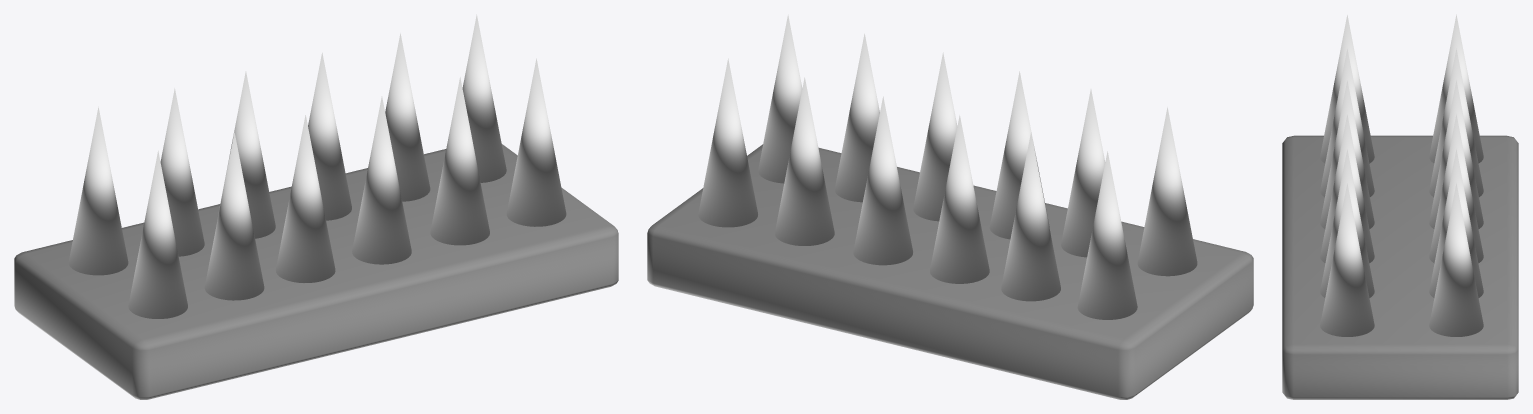
File: Spike_hole.fbx
3 renders of one model, left to right at view 1: azimuth 30°, elevation 25°; view 2: azimuth 150°, elevation 25°; view 3: azimuth 270°, elevation 25°, orthographic. The views are drawn at different scales.
Visible parts, largest first — view 1: Trap1.004; view 2: Trap1.004; view 3: Trap1.004.
Boxes of the visible parts, x1,y1,x2,y2 form: Trap1.004: (14,14,618,399); Trap1.004: (647,14,1253,399); Trap1.004: (1282,14,1518,399).
Size of the model in its own units: 535 by 228 by 247.
